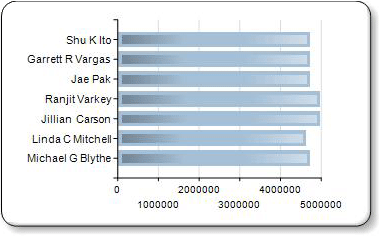canvas: (121, 19, 320, 174)
x-axis: (112, 176, 323, 183)
x-labels: (113, 185, 347, 210)
y-axis: (112, 17, 121, 182)
y-labels: (25, 25, 112, 173)
